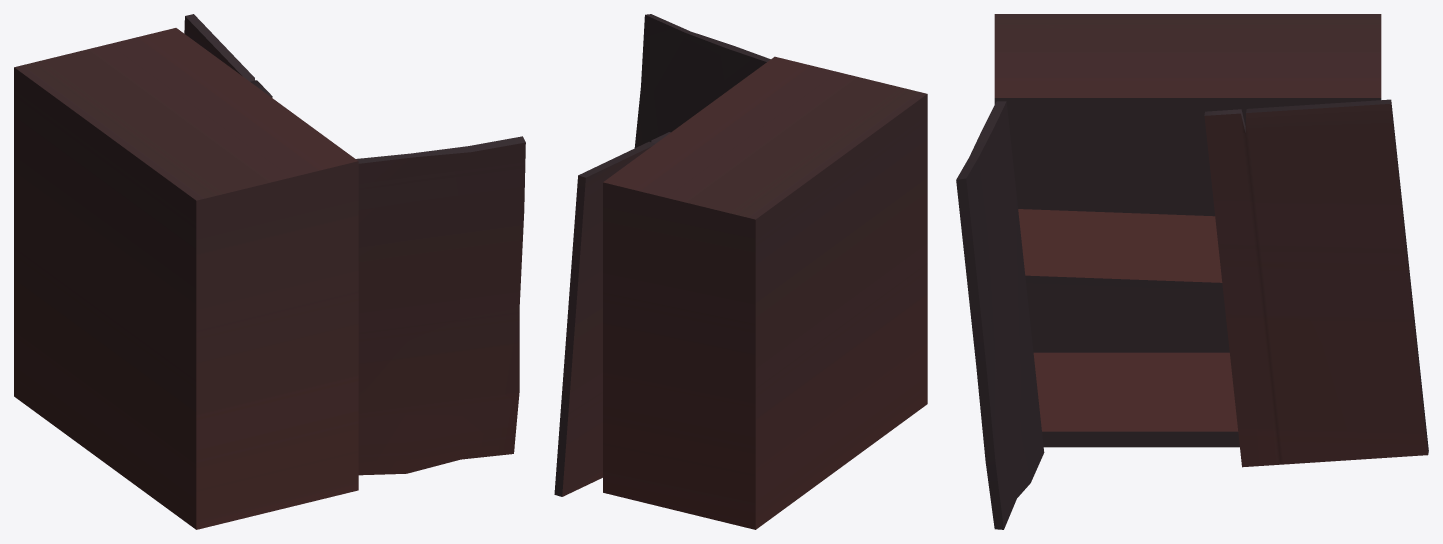
Rendered from alacencontextura.fbx.
The picture shows the model from 3 angles, left to right: view 1: azimuth 30°, elevation 25°; view 2: azimuth 150°, elevation 25°; view 3: azimuth 270°, elevation 25°; orthographic projection. The views are drawn at different scales.
Parts seen in each view (by area): view 1: pCube5; view 2: pCube5; view 3: pCube5.
Part boxes in pixels (x1=…): pCube5: x1=14, y1=14, x2=525, y2=529; pCube5: x1=554, y1=14, x2=927, y2=529; pCube5: x1=956, y1=14, x2=1428, y2=529.
Size of the model in its own units: 2.03 by 2.07 by 2.43.
1 material, 1 textured.
